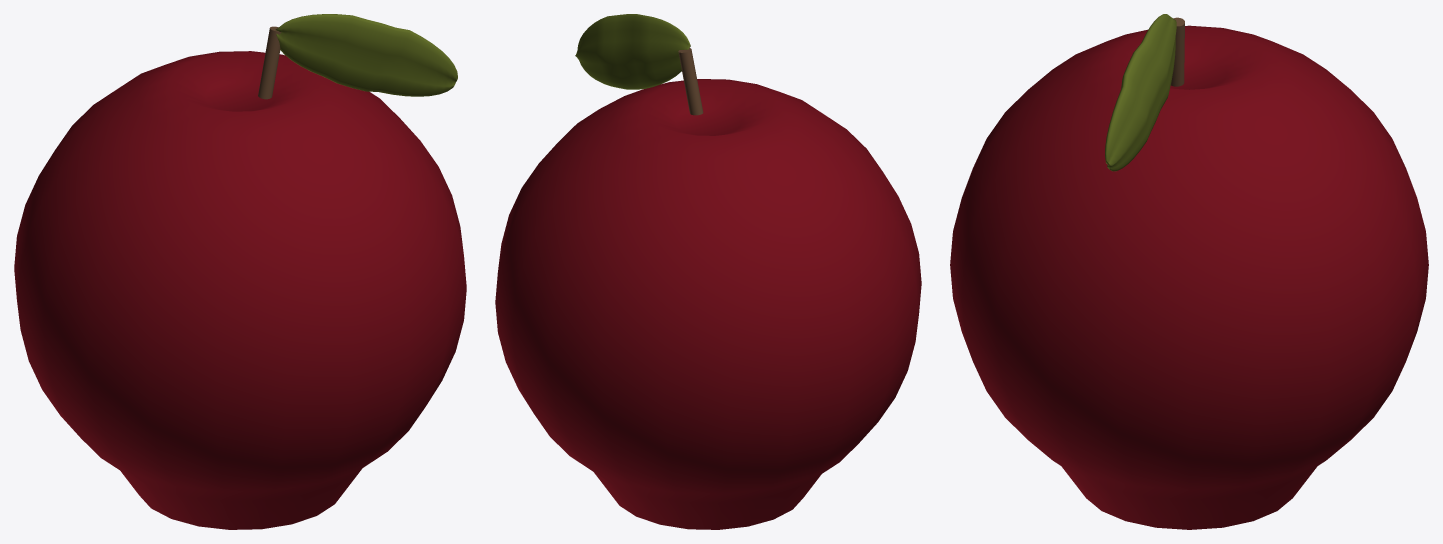
Rendered from apple copy.fbx.
The picture shows the model from 3 angles, left to right: view 1: azimuth 30°, elevation 25°; view 2: azimuth 150°, elevation 25°; view 3: azimuth 270°, elevation 25°; orthographic projection. The views are drawn at different scales.
Visible parts, largest first — view 1: pCylinder2; view 2: pCylinder2; view 3: pCylinder2.
Boxes of the visible parts, <box> form: pCylinder2: <box>14,14,466,529</box>; pCylinder2: <box>495,14,921,529</box>; pCylinder2: <box>950,14,1428,529</box>.
Size of the model in its own units: 0.6925 by 0.8255 by 0.6925.
